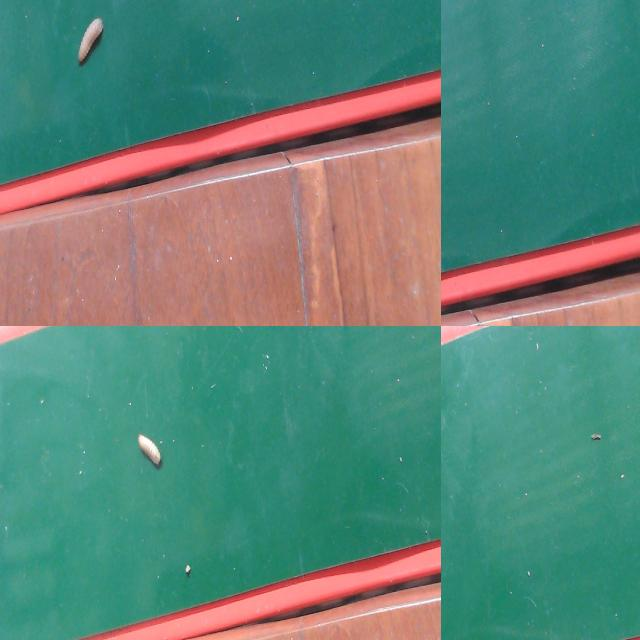Maggot: (76, 18, 104, 67), (135, 435, 162, 468)
